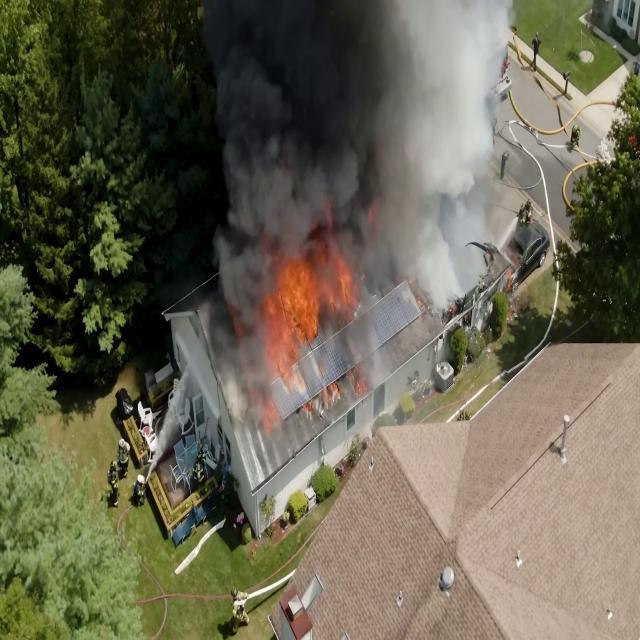Fire: (248, 257, 322, 374)
Smoke: (246, 0, 417, 220), (377, 0, 479, 276)
